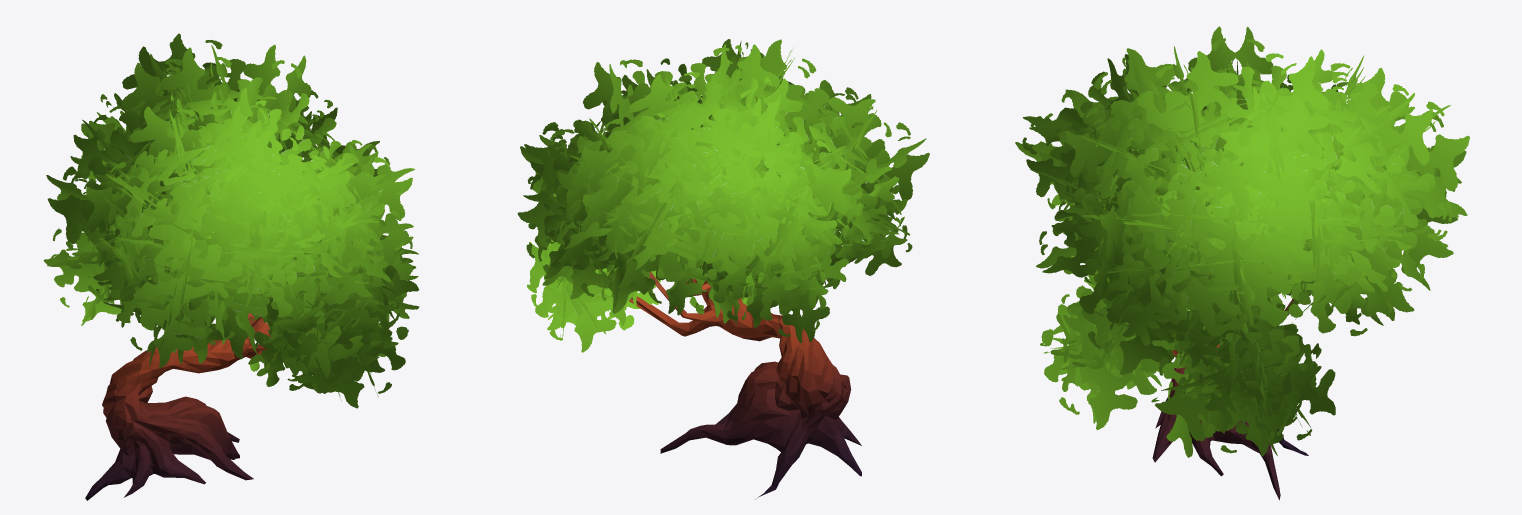
File: 03_Simple_Tree_10_3_5k_002.fbx
3 renders of one model, left to right at view 1: azimuth 30°, elevation 25°; view 2: azimuth 150°, elevation 25°; view 3: azimuth 270°, elevation 25°, orthographic. The views are drawn at different scales.
Visible parts, largest first — view 1: 03 Simple Tree 10_3_5k.002; view 2: 03 Simple Tree 10_3_5k.002; view 3: 03 Simple Tree 10_3_5k.002.
Part boxes in pixels (<box>): 03 Simple Tree 10_3_5k.002: <box>43,33,419,500</box>; 03 Simple Tree 10_3_5k.002: <box>517,39,929,499</box>; 03 Simple Tree 10_3_5k.002: <box>1015,26,1469,500</box>.
Size of the model in its own units: 1428 by 1475 by 1464.
